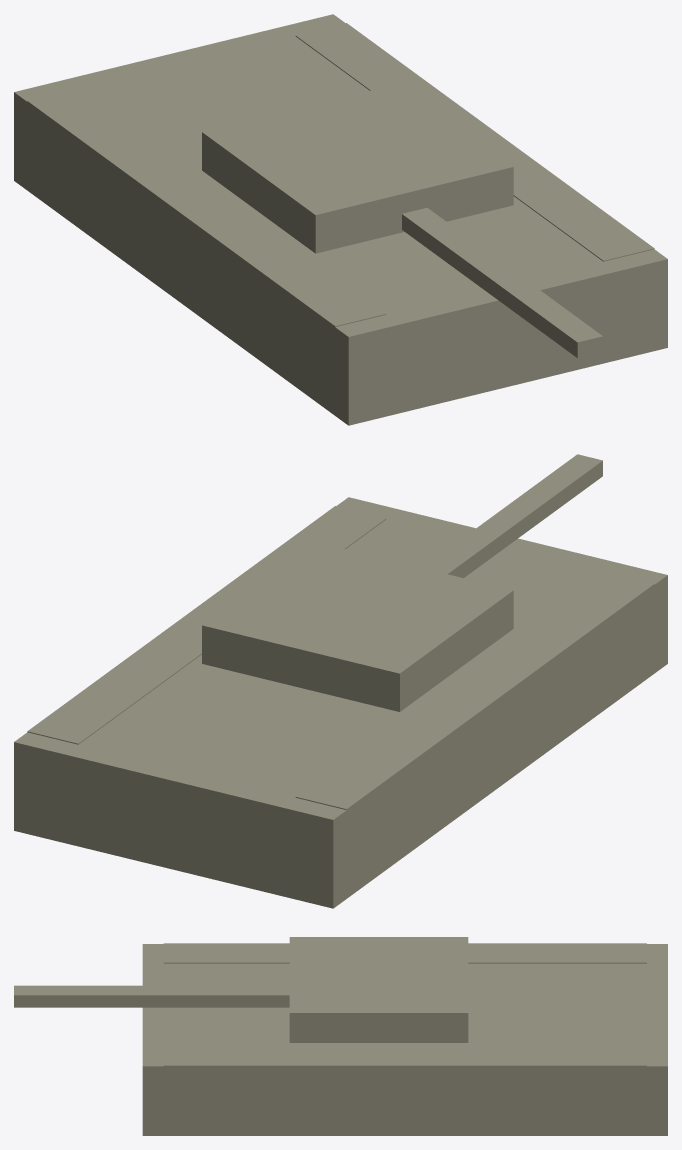
3 views of the same model, one above another, from view 1: azimuth 30°, elevation 25°; view 2: azimuth 150°, elevation 25°; view 3: azimuth 270°, elevation 25° (orthographic). The views are drawn at different scales.
Parts seen in each view (by area): view 1: Hull, Turret, Track_L, Track_R, Gun; view 2: Hull, Turret, Track_L, Track_R, Gun; view 3: Hull, Track_R, Turret, Track_L, Gun.
Part boxes in pixels (x1=…): Hull: x1=14, y1=14, x2=667, y2=425; Turret: x1=202, y1=83, x2=513, y2=253; Track_L: x1=27, y1=88, x2=386, y2=363; Track_R: x1=295, y1=23, x2=654, y2=261; Gun: x1=402, y1=207, x2=602, y2=358; Hull: x1=14, y1=497, x2=667, y2=908; Turret: x1=202, y1=542, x2=513, y2=711; Track_L: x1=295, y1=571, x2=654, y2=844; Track_R: x1=27, y1=506, x2=386, y2=744; Gun: x1=422, y1=454, x2=602, y2=578; Hull: x1=142, y1=944, x2=667, y2=1135; Track_R: x1=163, y1=1046, x2=646, y2=1099; Turret: x1=289, y1=937, x2=468, y2=1042; Track_L: x1=163, y1=943, x2=646, y2=963; Gun: x1=14, y1=985, x2=289, y2=1007.
Bounding box in the file's own units: 3.78 × 1.44 × 8.54.
